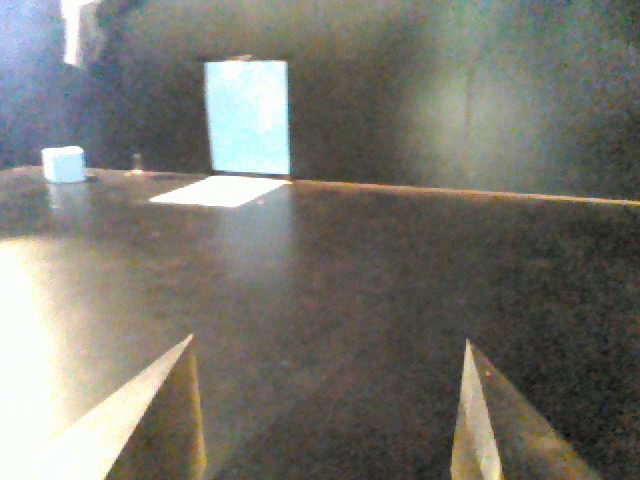cube: (37, 145, 90, 186)
